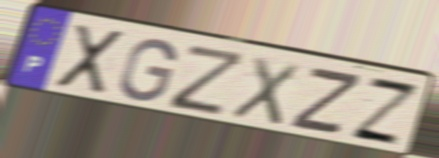G: (116, 37, 180, 104)
X: (227, 53, 303, 129), (53, 22, 127, 97)
Z: (166, 41, 251, 118), (285, 66, 366, 138), (347, 74, 424, 149)
